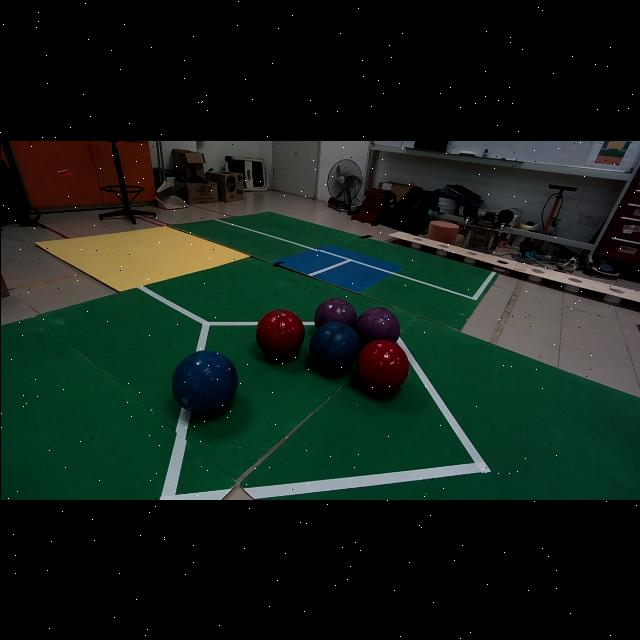B: (171, 350, 238, 413), (309, 321, 360, 371)
P: (354, 306, 399, 345), (313, 298, 357, 327)
R: (356, 339, 410, 393), (256, 308, 304, 359)
